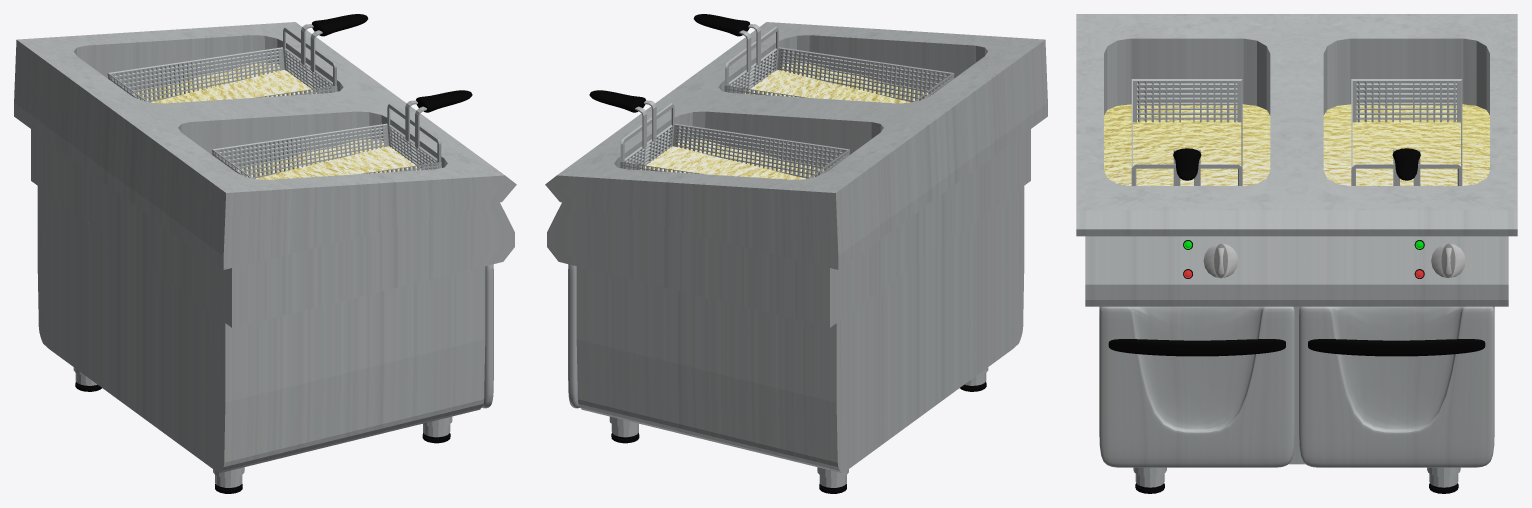
The model's file is frutoz.fbx.
3 views of the same model, side by side, from view 1: azimuth 30°, elevation 25°; view 2: azimuth 150°, elevation 25°; view 3: azimuth 270°, elevation 25° (orthographic). The views are drawn at different scales.
Parts seen in each view (by area): view 1: Cube, sepet.001, Plane.001, Circle, sap, Cube.001; view 2: Cube, sepet.001, Plane.001, Circle, sap, Cube.001; view 3: Cube, Cube.001, Plane.001, sepet.001, Plane, Circle.001, Circle, sap.
Part boxes in pixels (x1,y1,x2,y2): Cube: (14,22,516,472); sepet.001: (107,24,441,178); Plane.001: (133,62,420,179); Circle: (73,367,452,493); sap: (312,14,472,112); Cube.001: (482,264,493,408); Cube: (545,22,1047,472); sepet.001: (620,24,954,178); Plane.001: (641,62,928,179); Circle: (609,367,988,493); sap: (589,14,749,112); Cube.001: (568,264,579,408); Cube: (1076,14,1517,464); Cube.001: (1099,306,1494,467); Plane.001: (1104,104,1489,185); sepet.001: (1131,79,1462,185); Plane: (1108,339,1485,356); Circle.001: (1203,243,1465,277); Circle: (1133,467,1460,493); sap: (1173,148,1420,180).
Bounding box in the file's own units: 212 × 222 × 256.
